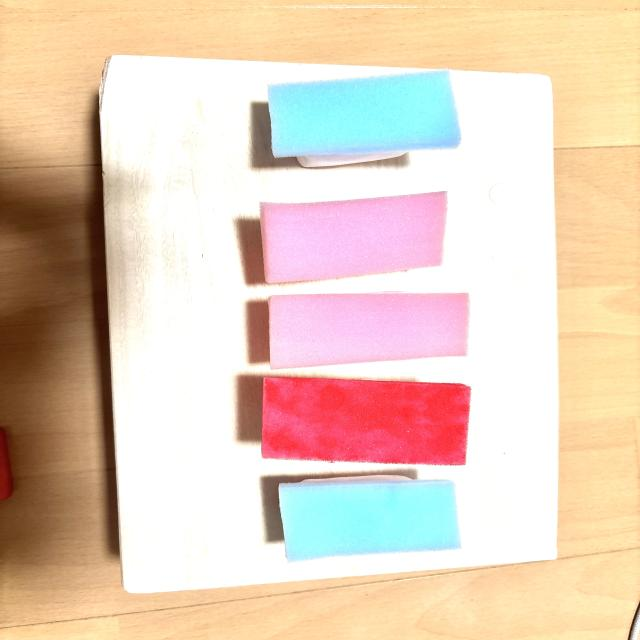ika: (268, 70, 461, 167), (279, 476, 461, 562)
maguro: (262, 377, 471, 465)
tai: (261, 191, 447, 283), (268, 292, 469, 369)
